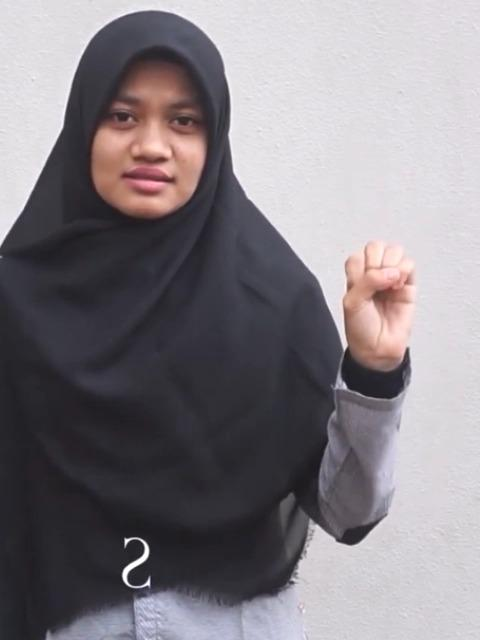S: (338, 233, 420, 355)
